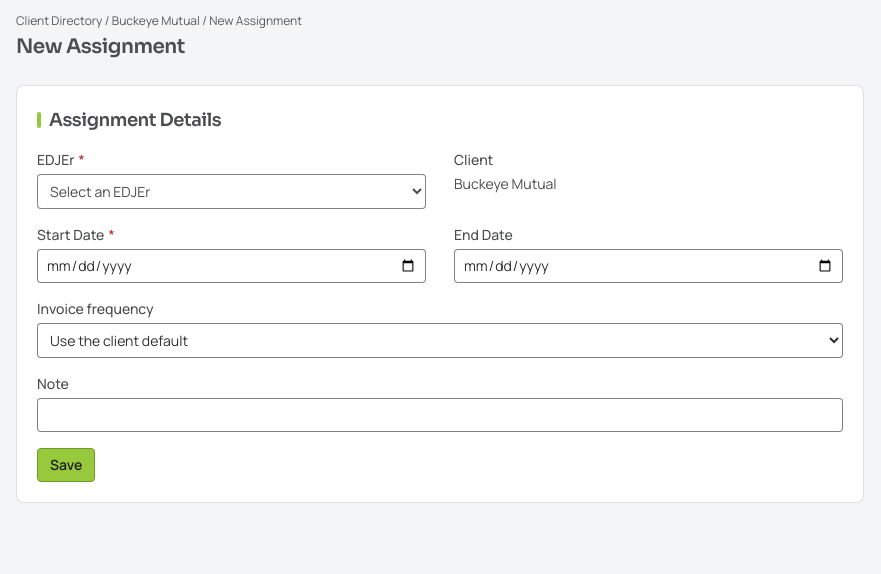
NewClientAssignmentRoute › shows the rejection and does not navigate when the save is refused
Select "Maya Alvarez" in the dropdown labelled "EDJEr" at (232, 192), box [37,174,426,209]
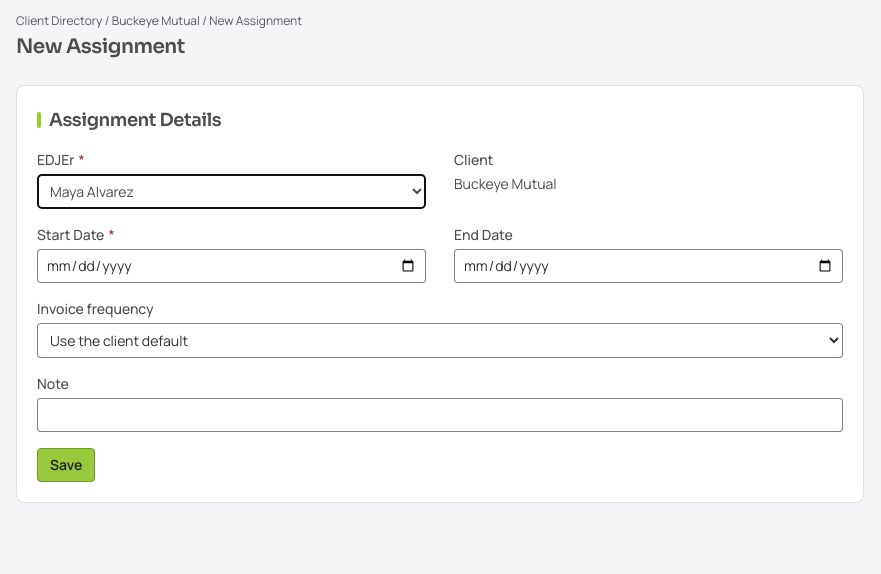
Type "2026-06-01" into the date field labelled "Start Date*" at (232, 266), box [37,249,426,283]
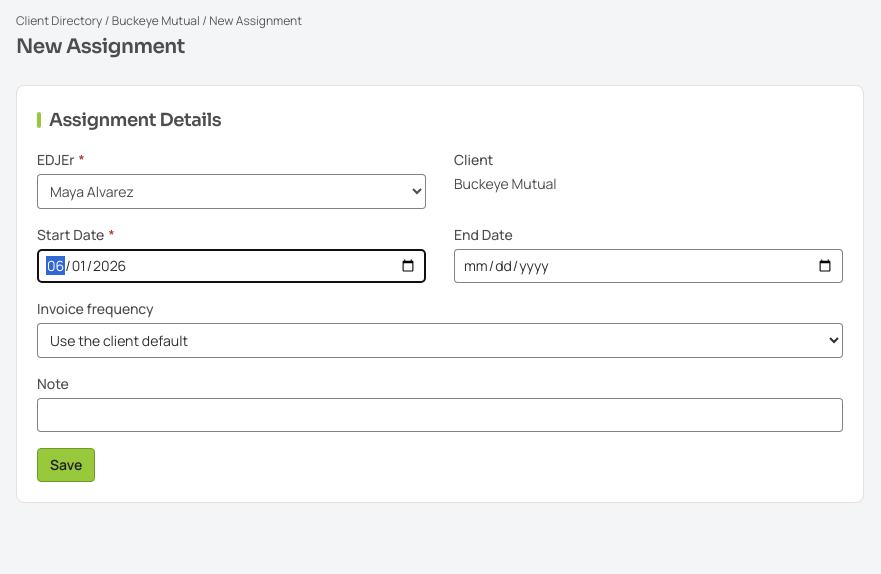
Click the button "Save" at (66, 465), box [37,448,95,482]
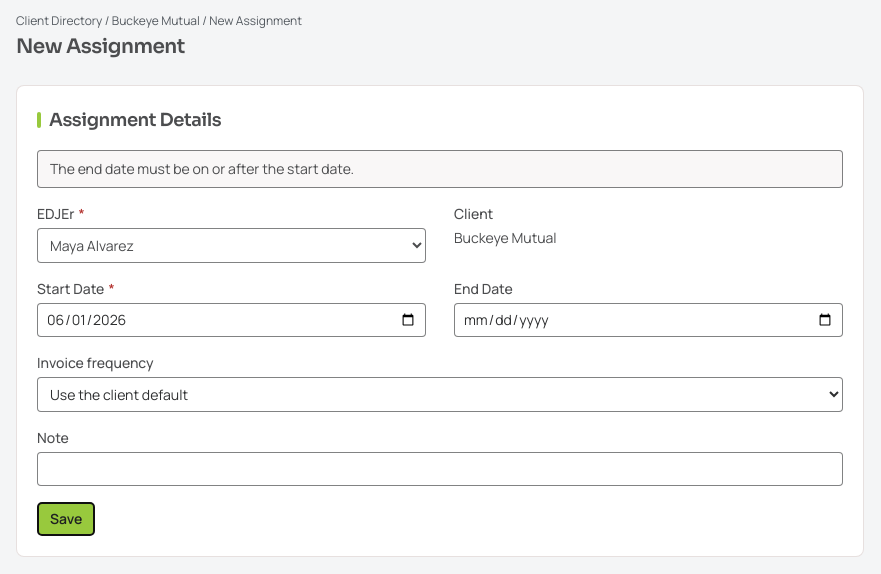
Expected: the message reads "The end date must be on or after the start date.", [50,159,354,178]
